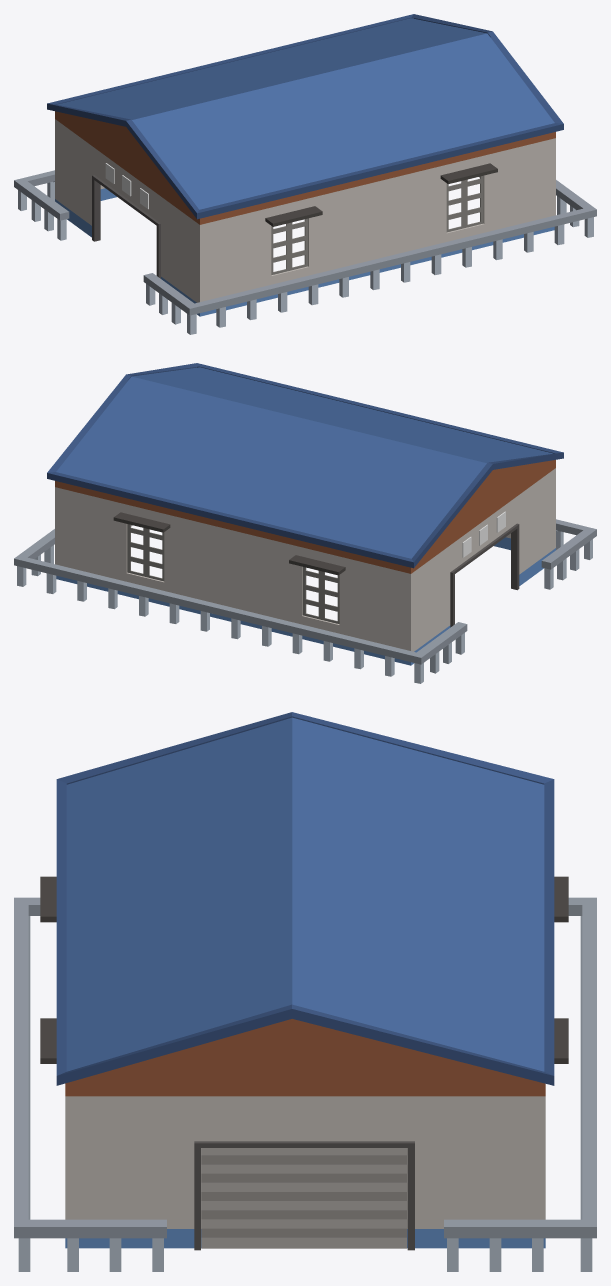
File: OpenWarehouse1.fbx
The picture shows the model from 3 angles, top to bottom: view 1: azimuth 30°, elevation 25°; view 2: azimuth 150°, elevation 25°; view 3: azimuth 270°, elevation 25°; orthographic projection. The views are drawn at different scales.
Visible parts, largest first — view 1: OpenWarehouse1; view 2: OpenWarehouse1; view 3: OpenWarehouse1.
Part boxes in pixels (bbox=[...]): OpenWarehouse1: bbox=[14, 14, 596, 334]; OpenWarehouse1: bbox=[14, 363, 596, 683]; OpenWarehouse1: bbox=[14, 712, 596, 1271].
Size of the model in its own units: 2794 by 981 by 2089.
